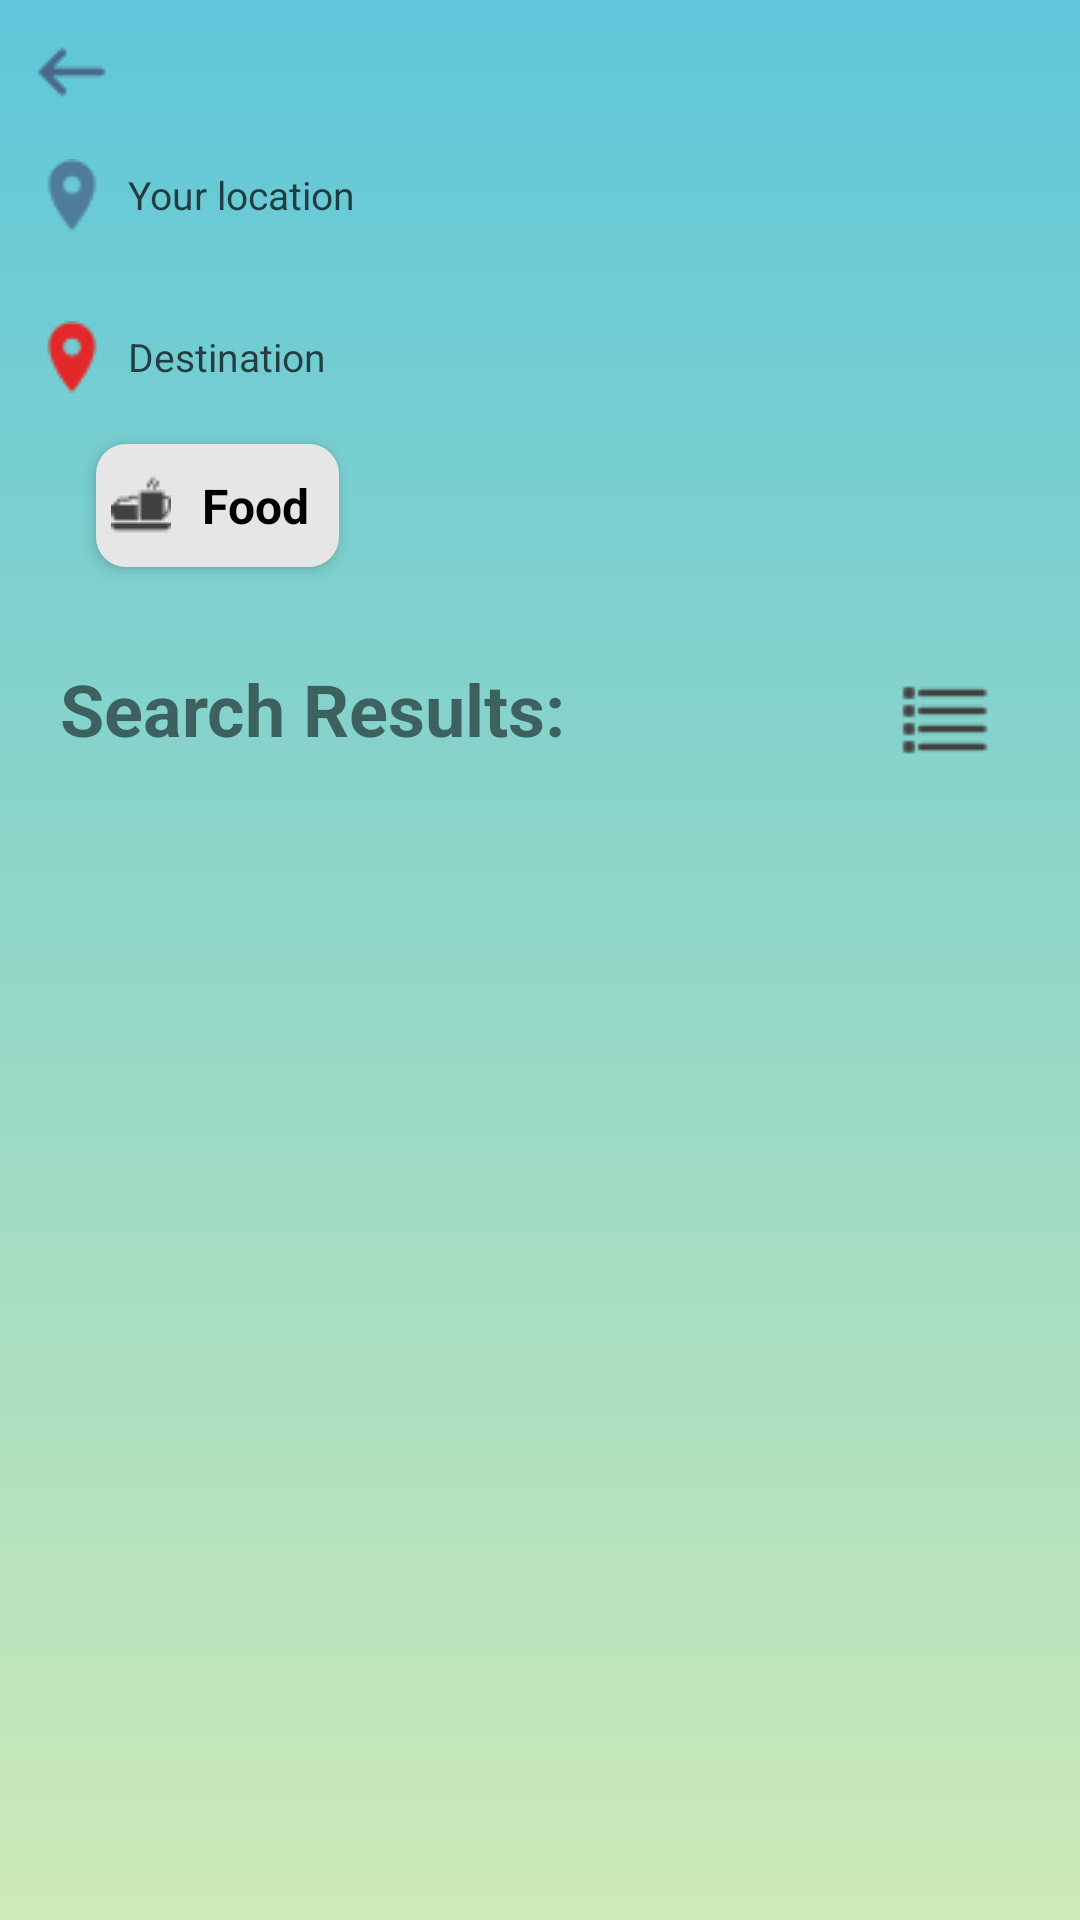

Named icons in this screenshot (1080x1920) and their bounding boxes, bbox=(x1, y1, x2, y2):
left: bbox=(38, 48, 105, 96)
